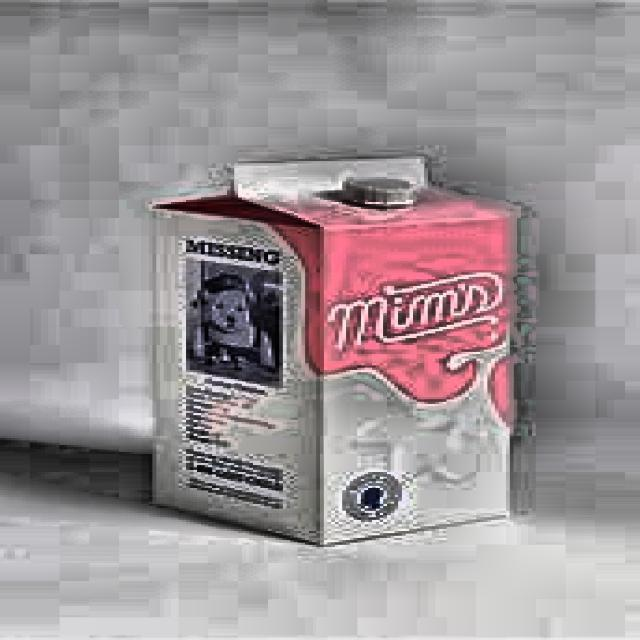cardboard: (145, 155, 514, 544)
